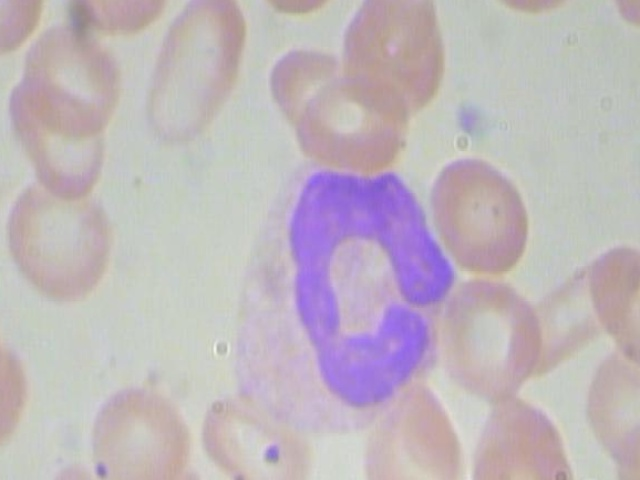RBC: (141, 0, 251, 152), (4, 165, 118, 304), (418, 154, 540, 281), (424, 272, 545, 400), (356, 374, 479, 480), (23, 25, 127, 144), (290, 72, 415, 170), (86, 377, 193, 480), (458, 394, 583, 480), (198, 392, 313, 480), (590, 235, 640, 374), (361, 0, 435, 72), (53, 0, 173, 37)
WBC: (228, 156, 470, 434)
